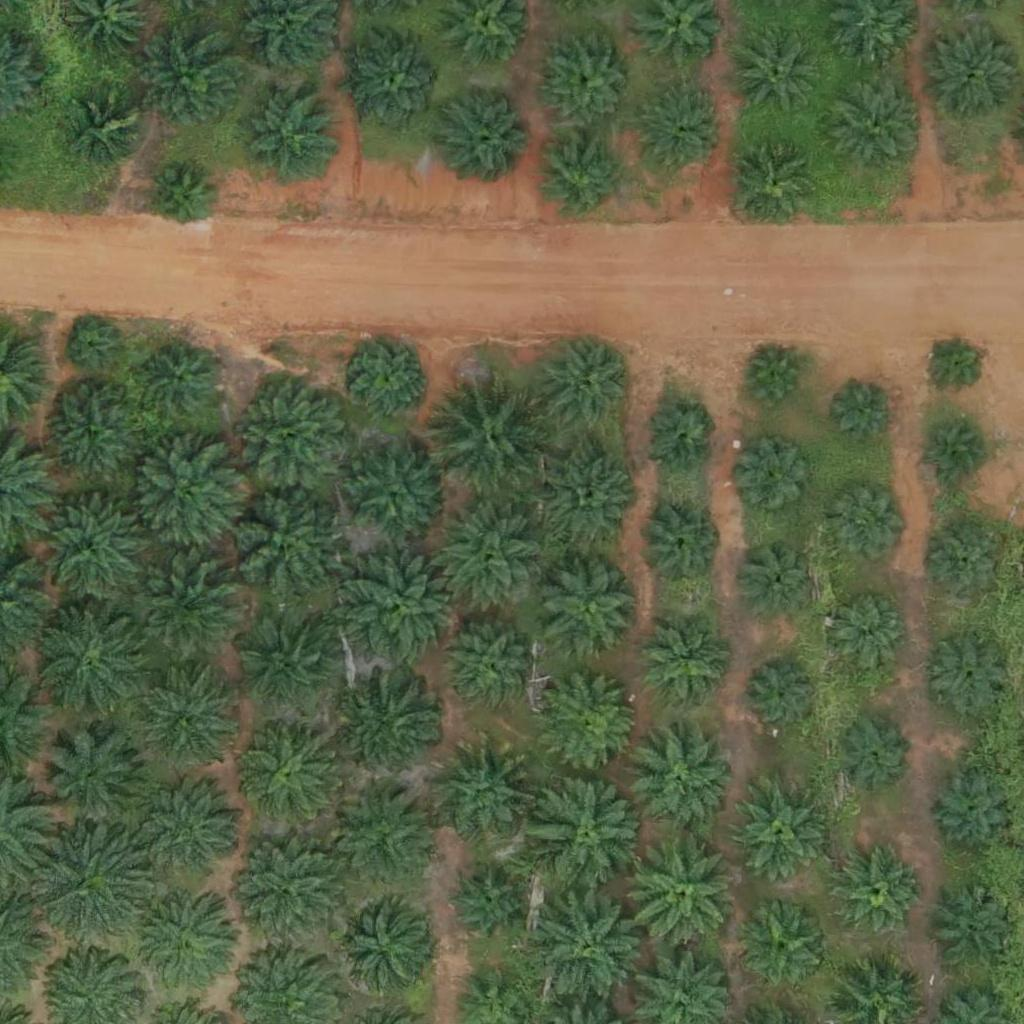Kelapa_Sawit: (31, 598, 156, 724), (26, 823, 151, 949), (231, 371, 356, 497), (219, 482, 344, 608), (224, 829, 349, 955), (339, 546, 464, 672), (430, 372, 555, 498), (426, 495, 551, 621), (528, 771, 653, 897), (528, 884, 653, 1010), (620, 831, 745, 957), (27, 490, 152, 615), (36, 724, 149, 837), (135, 778, 248, 891), (123, 886, 236, 999), (129, 439, 241, 552), (130, 551, 242, 664), (141, 30, 241, 131), (240, 85, 340, 186), (824, 71, 924, 172), (40, 384, 140, 485), (239, 618, 339, 719), (240, 719, 340, 820), (347, 674, 447, 775), (335, 779, 435, 880), (438, 742, 538, 843), (331, 896, 431, 997), (346, 34, 446, 134), (438, 85, 538, 185), (540, 31, 640, 131), (345, 443, 445, 543), (535, 335, 635, 435), (539, 451, 639, 551), (539, 558, 639, 658), (541, 675, 641, 775), (632, 731, 732, 831), (726, 782, 826, 882), (926, 629, 1014, 717), (639, 87, 727, 175), (735, 27, 823, 115), (732, 137, 820, 225), (142, 674, 230, 762), (641, 621, 729, 709), (930, 769, 1018, 857), (739, 906, 827, 994), (636, 500, 723, 588), (540, 134, 627, 222), (447, 625, 534, 713), (835, 850, 922, 938), (930, 888, 1017, 976), (830, 591, 905, 667), (740, 539, 815, 615), (745, 658, 820, 734), (834, 714, 909, 790), (352, 340, 427, 416), (640, 400, 715, 476), (738, 442, 813, 517), (831, 484, 906, 559), (929, 528, 1004, 603), (71, 94, 146, 169), (143, 343, 218, 418), (449, 868, 524, 943), (150, 167, 213, 230), (923, 332, 986, 395), (924, 421, 987, 484), (743, 348, 805, 411), (833, 381, 895, 444), (68, 322, 118, 372)
